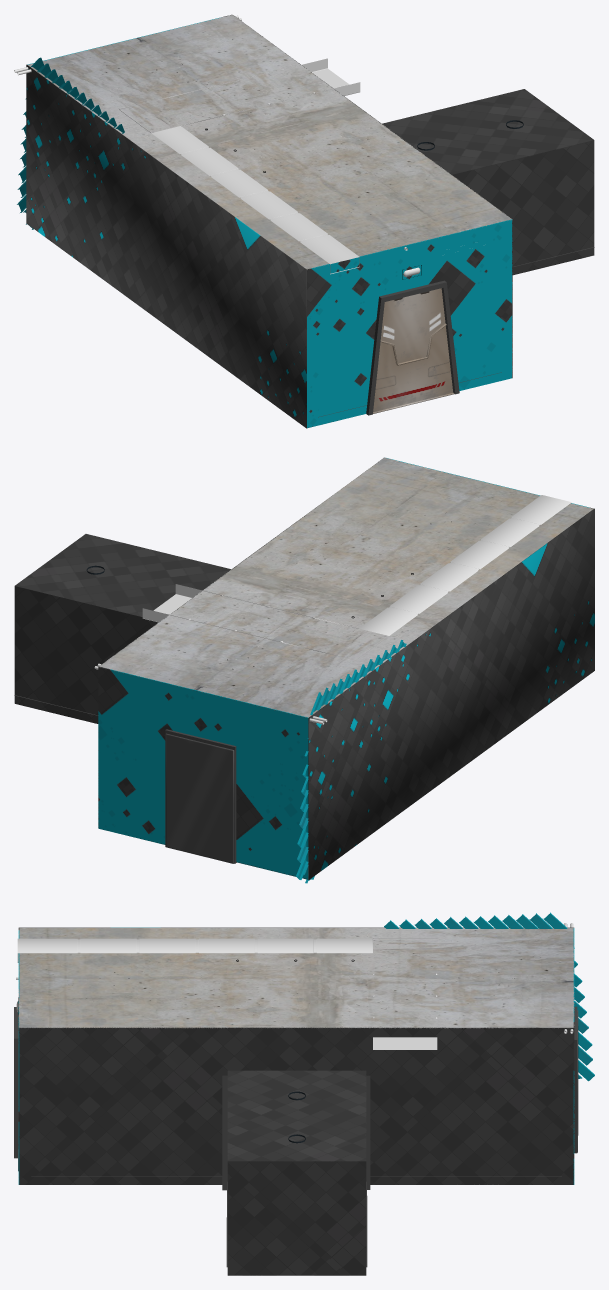
The model's file is Lobby3D.fbx.
The picture shows the model from 3 angles, top to bottom: view 1: azimuth 30°, elevation 25°; view 2: azimuth 150°, elevation 25°; view 3: azimuth 270°, elevation 25°; orthographic projection. The views are drawn at different scales.
Parts seen in each view (by area): view 1: Cube.173, Cube.170, Cube, Cube.015, Cube.006, Cube.003, Cube.004, Cube.002, Cube.185; view 2: Cube.173, Cube.170, Cube, Cube.015, Cube.014, Cube.006, Cube.185, Cube.013; view 3: Cube.015, Cube.173, Cube.006, Cube.185, Cube.176, Cube, Cube.002, Cube.022, Cube.013.
Part boxes in pixels (x1,y1,x2,y2): Cube.173: (28,14,512,269); Cube.170: (26,64,306,428); Cube: (27,14,512,428); Cube.015: (234,16,594,377); Cube.006: (119,58,360,274); Cube.003: (373,326,454,413); Cube.004: (380,288,446,365); Cube.002: (366,280,459,415); Cube.185: (17,57,124,229); Cube.173: (99,457,593,717); Cube.170: (308,508,594,879); Cube: (98,458,593,879); Cube.015: (14,459,381,827); Cube.014: (165,733,234,863); Cube.006: (142,495,571,660); Cube.185: (296,640,406,883); Cube.013: (165,729,236,863); Cube.015: (18,1027,574,1275); Cube.173: (18,928,574,1028); Cube.006: (17,938,437,1049); Cube.185: (384,912,594,1081); Cube.176: (222,1075,370,1190); Cube: (18,928,574,1184); Cube.002: (14,1007,18,1158); Cube.022: (31,1176,561,1267); Cube.013: (574,1006,577,1153).
Bounding box in the file's own units: 670 × 280 × 836.
